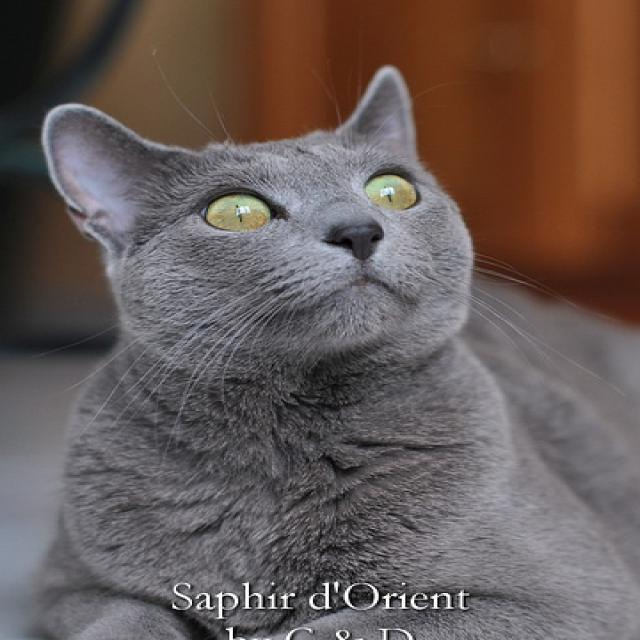Russian Blue: (19, 52, 640, 640)
